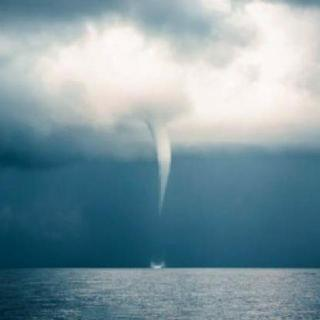Cirrocumulus: (0, 0, 320, 216)
